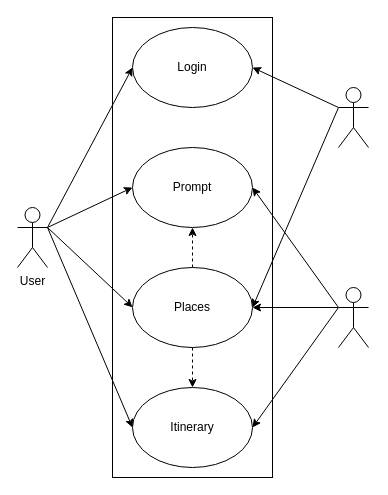
This 388x495 diagram has some shape labels left out. The centre of each missing label's shape, as x and y in pixels:
Admin: point 353,117
API: point 353,317
